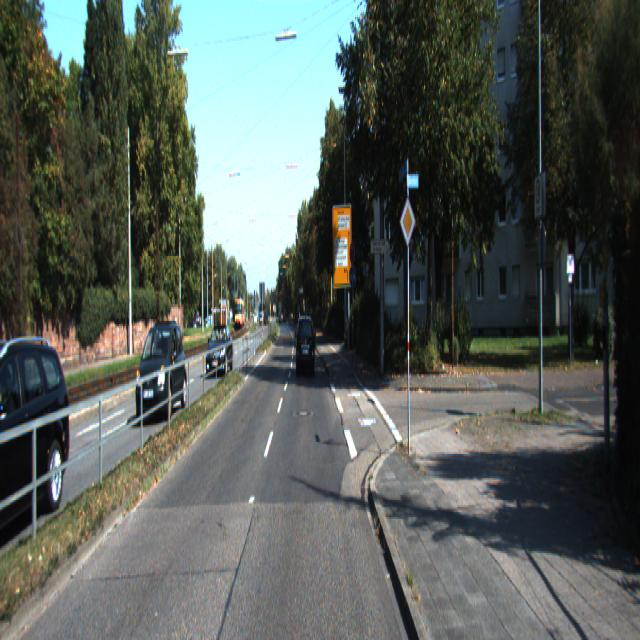Car: (0, 329, 73, 551), (136, 321, 188, 426), (205, 324, 234, 378), (296, 314, 316, 378)
DontCare: (260, 308, 286, 326)
